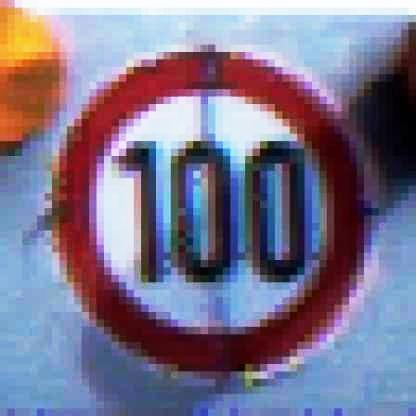Speed Limit -100-: (45, 46, 372, 384)
